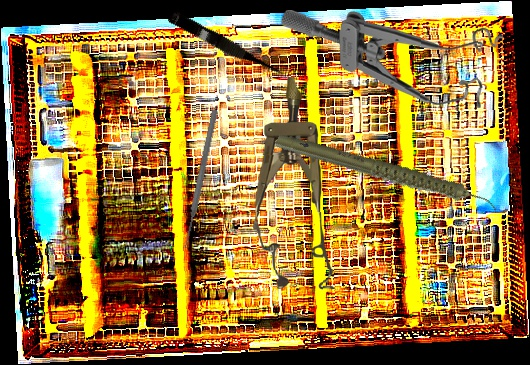Handpiece: (273, 91, 500, 259)
Micro Scissor: (165, 8, 287, 85)
Pusher: (180, 109, 220, 250)
Speculum: (278, 10, 506, 108), (250, 76, 337, 291)
